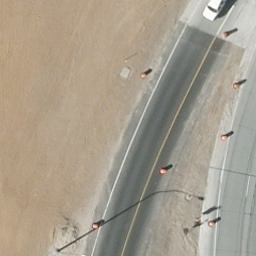car: (197, 0, 231, 24)
